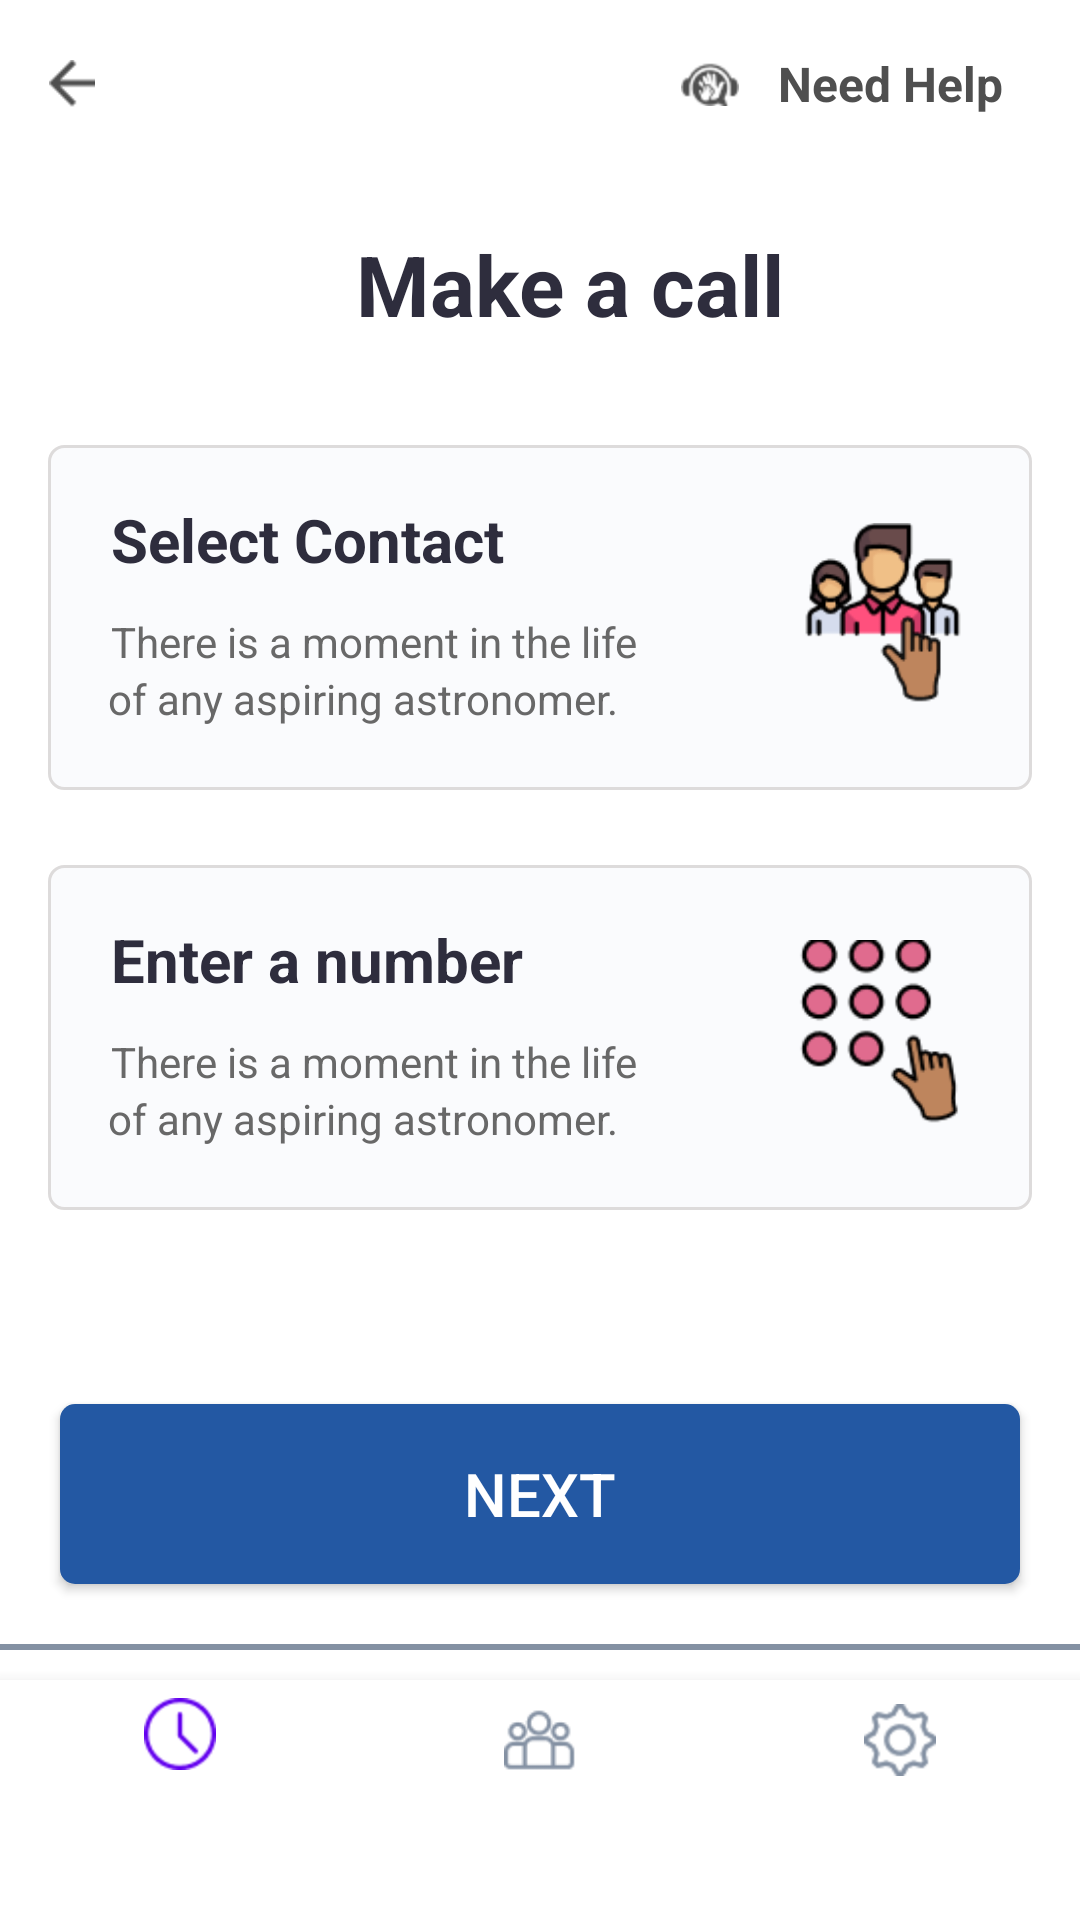

Where to tap for icons on this 1080 x 1920 app screen, as (x=x, y=y):
back: (x=72, y=83)
enternumber: (x=879, y=1031)
selectcontact: (x=882, y=612)
